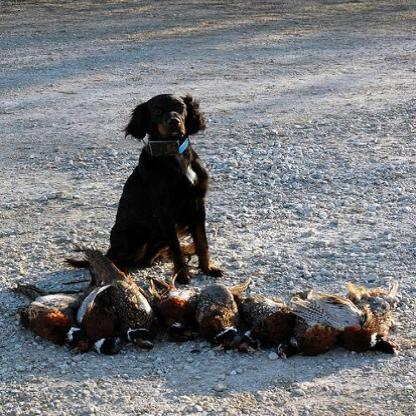Gordon_setter: (62, 91, 224, 282)
